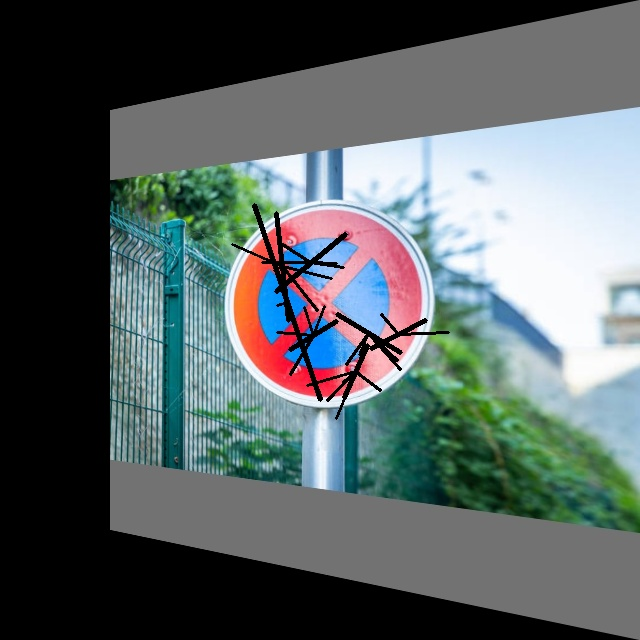No_Stopping_or_Standing: (228, 204, 435, 404)
